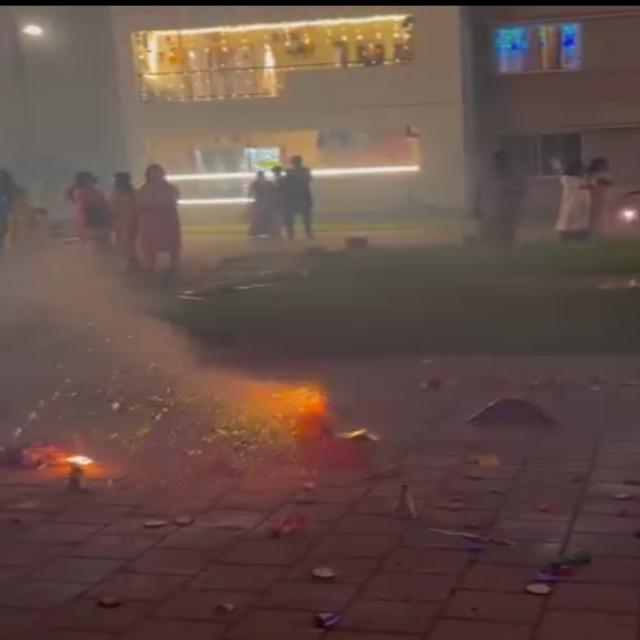fire: (264, 384, 329, 418)
